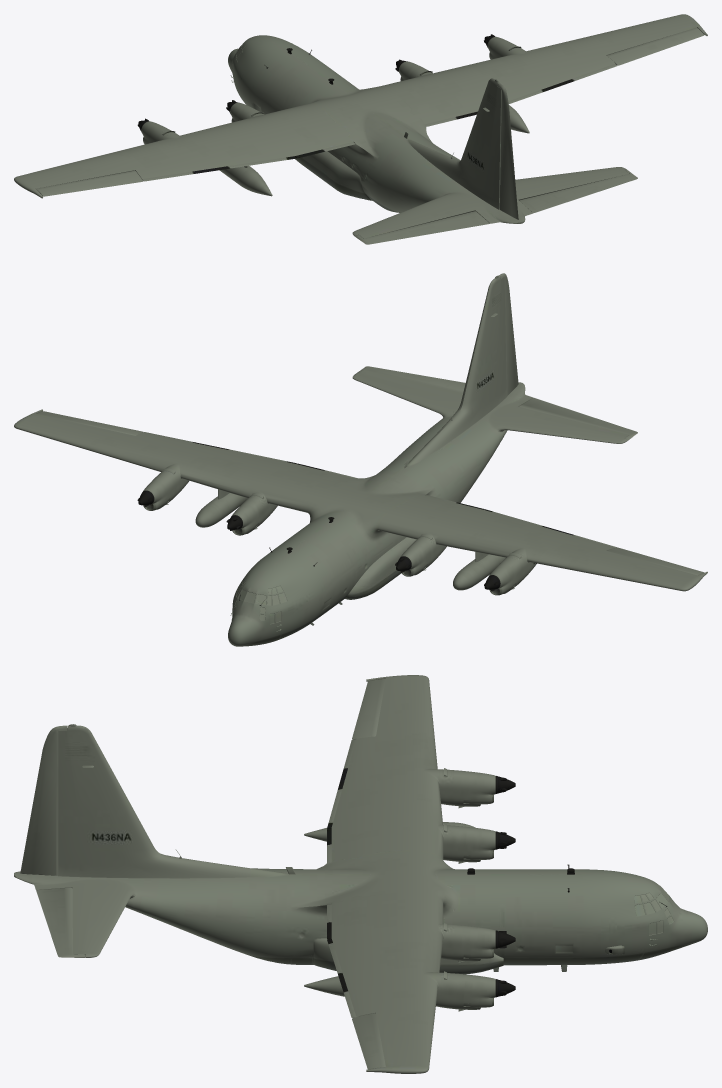
The picture shows the model from 3 angles, top to bottom: view 1: azimuth 30°, elevation 25°; view 2: azimuth 150°, elevation 25°; view 3: azimuth 270°, elevation 25°; orthographic projection. The views are drawn at different scales.
Parts seen in each view (by area): view 1: aircraft; view 2: aircraft; view 3: aircraft.
Boxes of the visible parts, box(x1,y1,x2,y2) form: aircraft: box(14, 14, 707, 244); aircraft: box(14, 273, 707, 646); aircraft: box(14, 675, 707, 1073).
Size of the model in its own units: 0.4027 by 0.1138 by 0.298.
Materials: 7 (7 with a texture image).
